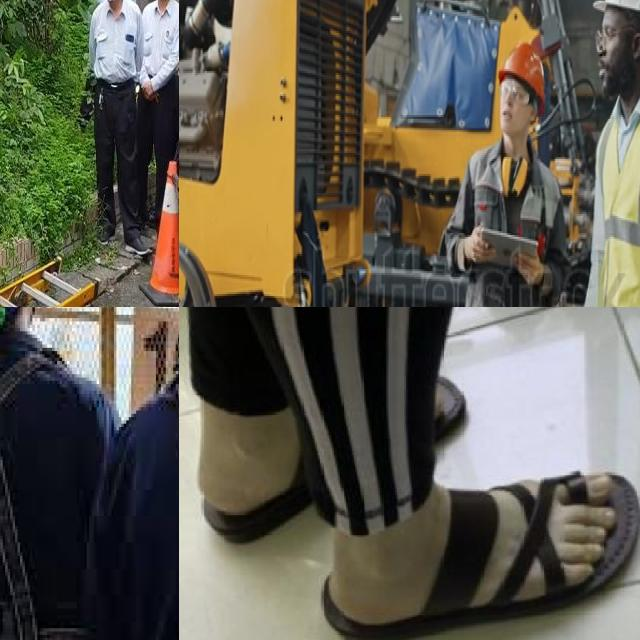Ear-protection: (498, 144, 532, 209)
Harness: (0, 344, 65, 640)
Sandals: (315, 453, 640, 640)
glasses: (500, 74, 536, 114), (592, 16, 618, 54)
head_helmet: (494, 4, 549, 113), (593, 0, 640, 25)
person: (459, 0, 580, 307), (579, 0, 640, 307)
